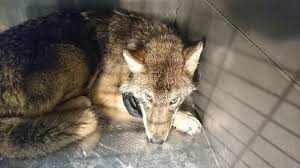dog: (105, 34, 209, 151)
